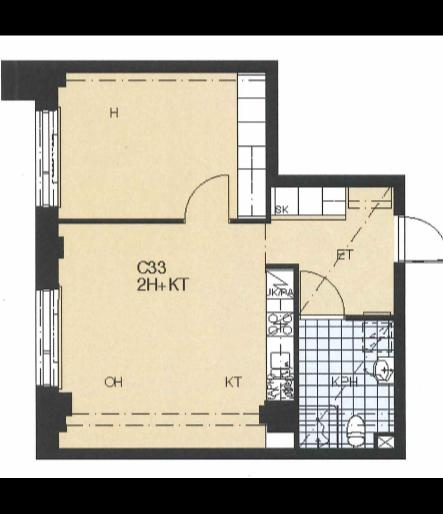door: (178, 171, 232, 226), (390, 211, 443, 266), (296, 270, 345, 322)
window: (32, 285, 63, 392), (30, 106, 61, 212)
